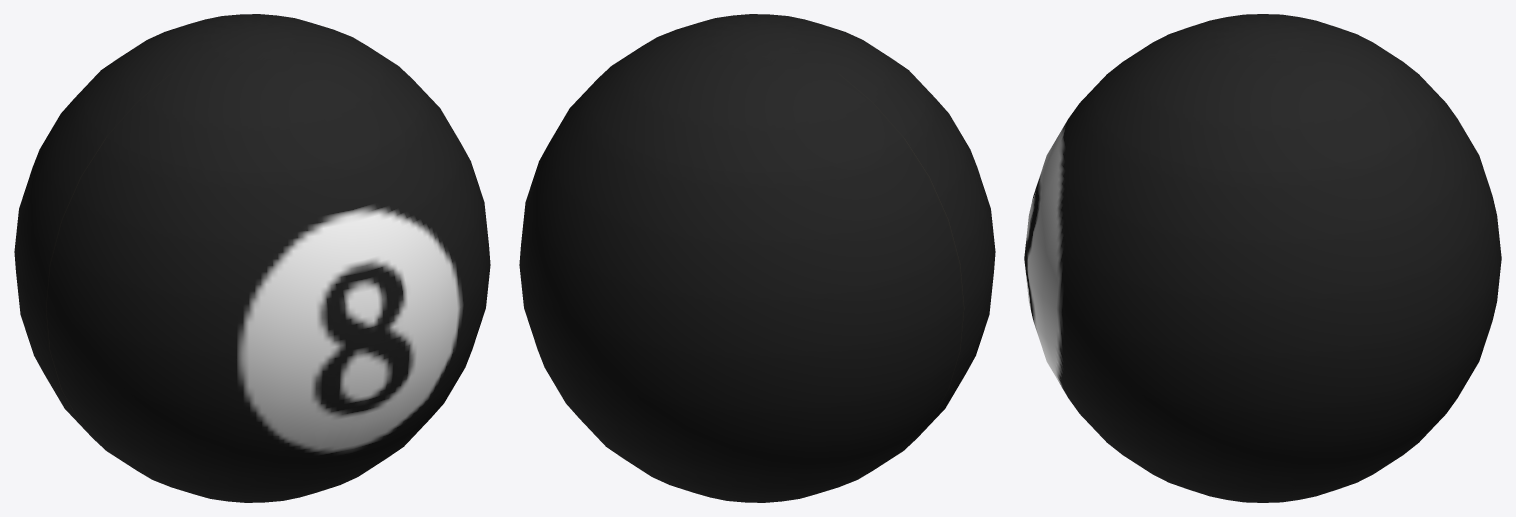
Rendered from 8 Ball.fbx.
The picture shows the model from 3 angles, left to right: view 1: azimuth 30°, elevation 25°; view 2: azimuth 150°, elevation 25°; view 3: azimuth 270°, elevation 25°; orthographic projection.
Parts seen in each view (by area): view 1: 8 Ball; view 2: 8 Ball; view 3: 8 Ball.
Part boxes in pixels (x1,y1,x2,y2): 8 Ball: [14, 14, 490, 502]; 8 Ball: [519, 14, 995, 502]; 8 Ball: [1024, 14, 1501, 502].
Size of the model in its own units: 12.66 by 13.1 by 12.66.
